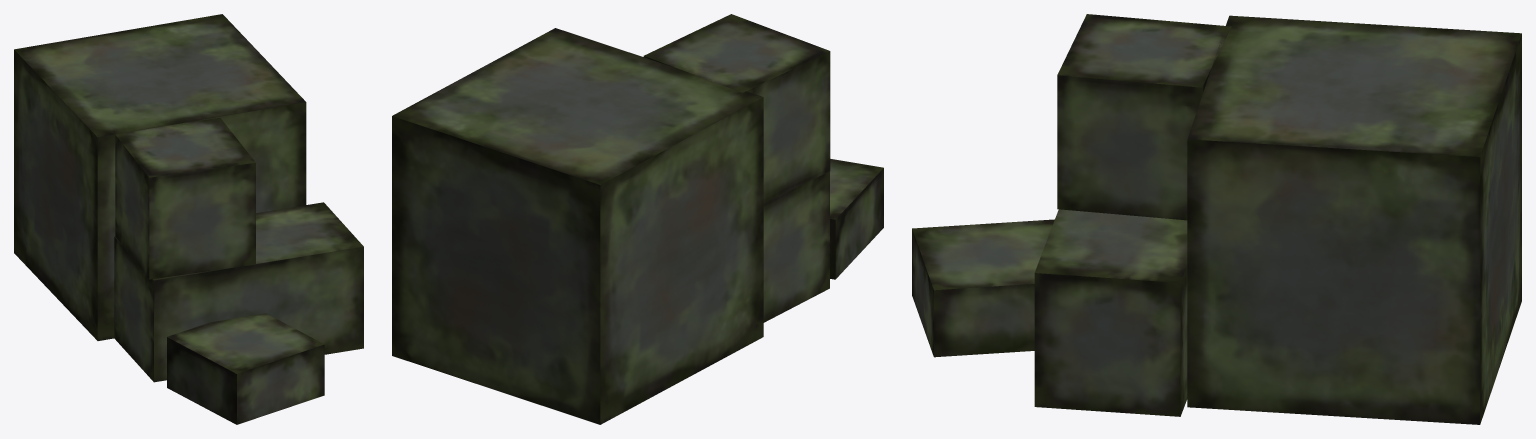
File: rubble-large-01.fbx
3 renders of one model, left to right at view 1: azimuth 30°, elevation 25°; view 2: azimuth 150°, elevation 25°; view 3: azimuth 270°, elevation 25°, orthographic. The views are drawn at different scales.
Parts seen in each view (by area): view 1: rubble_large_1; view 2: rubble_large_1; view 3: rubble_large_1.
Part boxes in pixels (x1,y1,x2,y2): rubble_large_1: [14, 14, 363, 424]; rubble_large_1: [392, 14, 883, 424]; rubble_large_1: [912, 14, 1521, 424].
Bounding box in the file's own units: 229 × 200 × 413.
